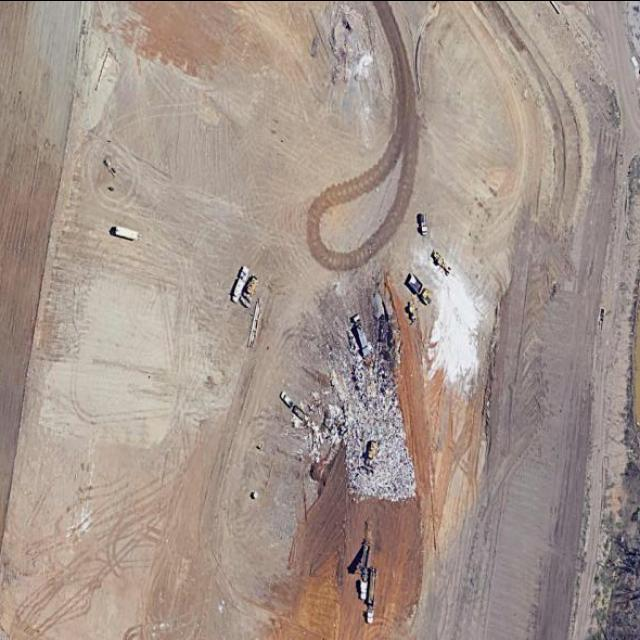dump_site: (281, 296, 417, 515)
